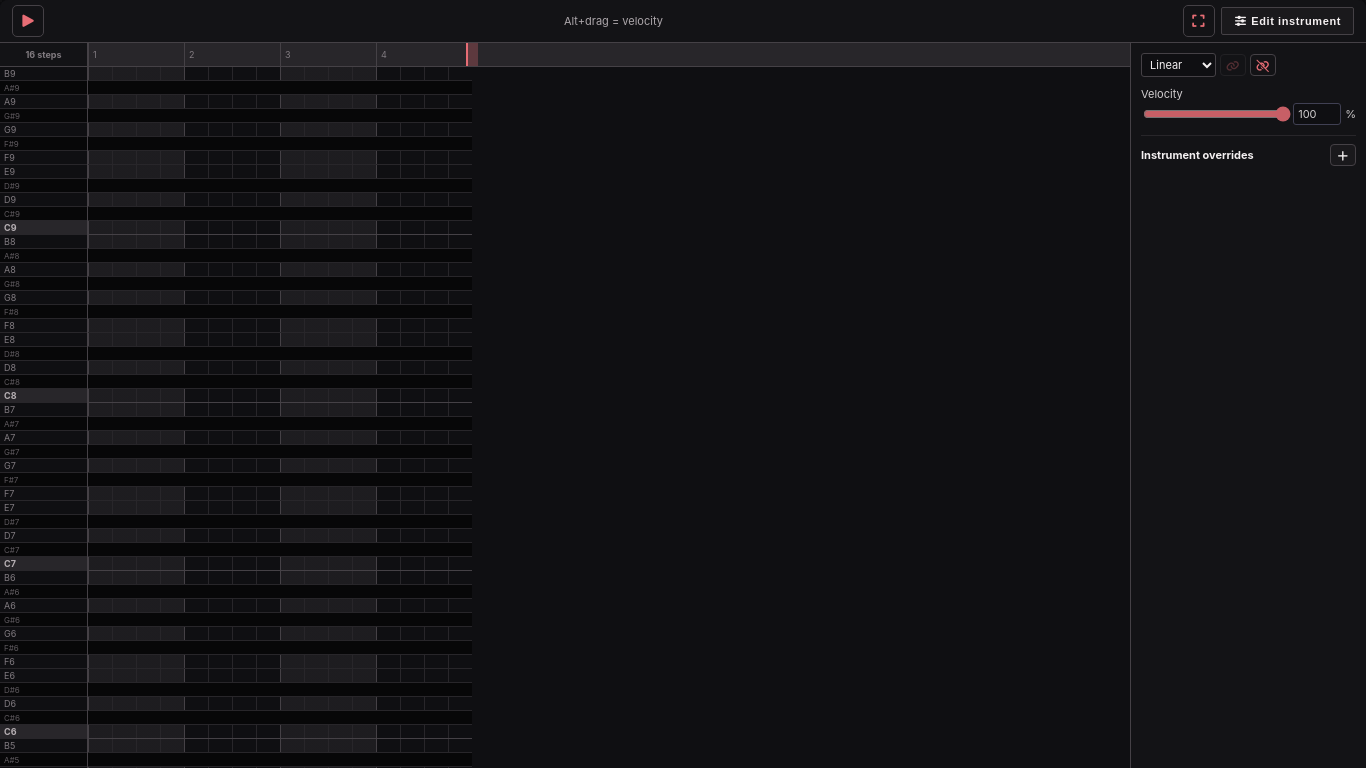
Test: Sequencer note interactions › lets a sequential selection edit and remove pitch slides
The width and height of the screenshot is (1366, 768).
Expected: the button named "Create missing pitch slides" is disabled, [1220, 54, 1246, 76]
Expected: the button named "Remove pitch slides" is enabled, [1250, 54, 1276, 76]
Select "Smooth" in the dropdown named "Pitch slide type" at (1178, 65), box [1141, 53, 1216, 77]
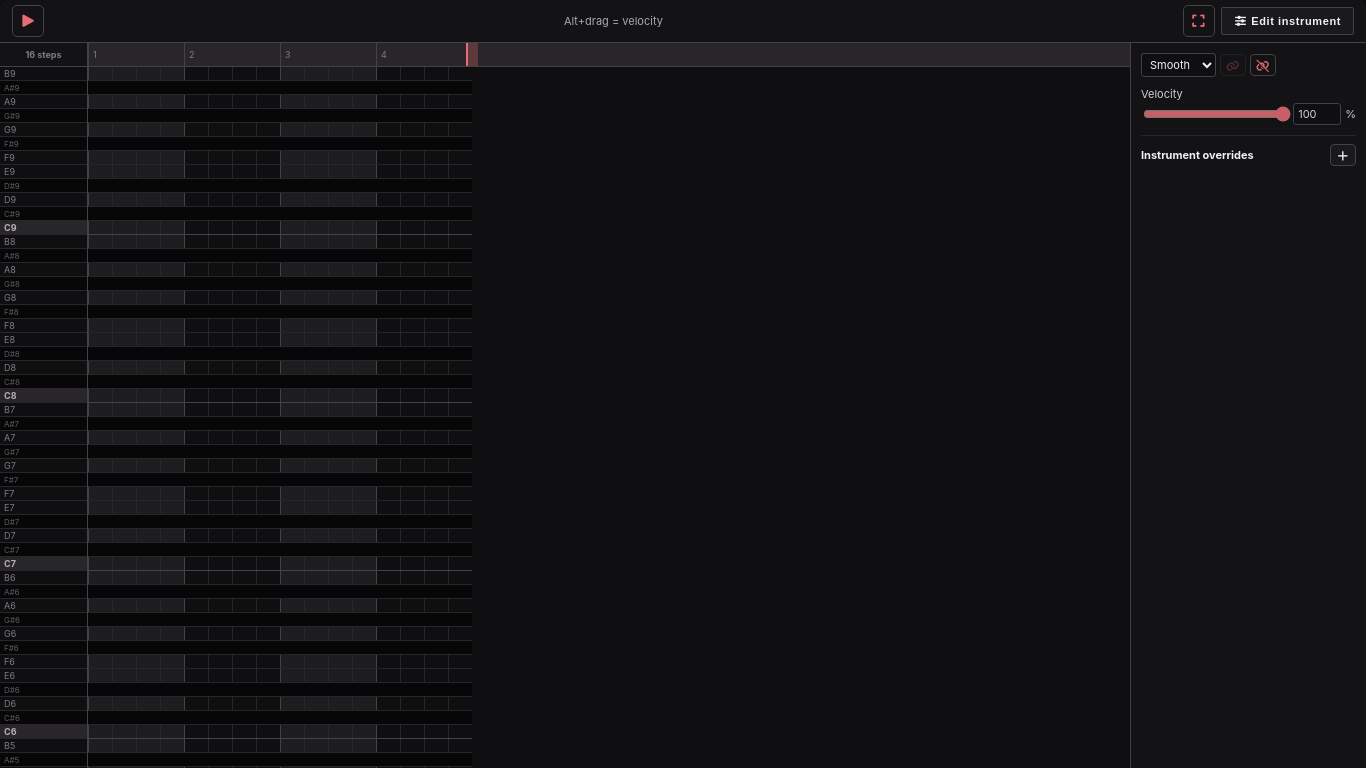
Click the button named "Remove pitch slides" at (1263, 65), box [1250, 54, 1276, 76]
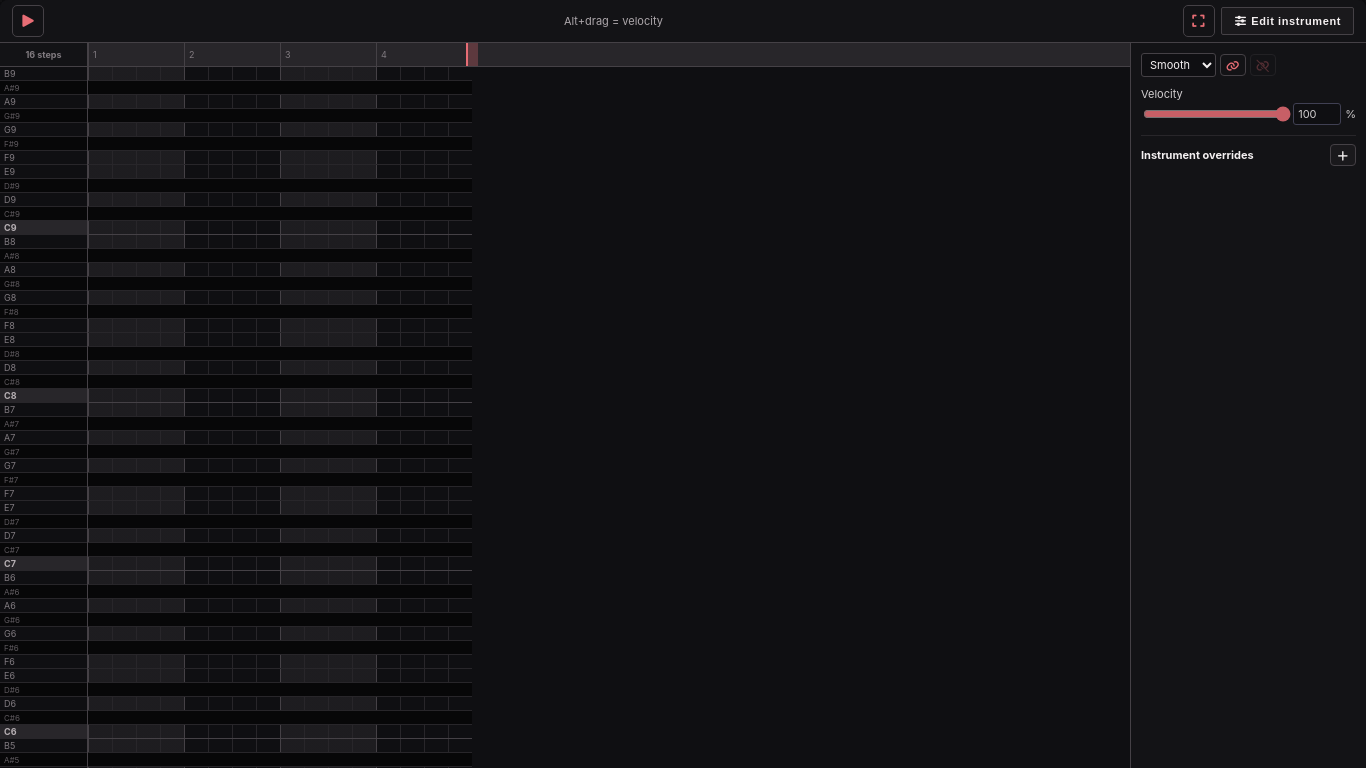
Expected: the button named "Create missing pitch slides" is enabled, [1220, 54, 1246, 76]
